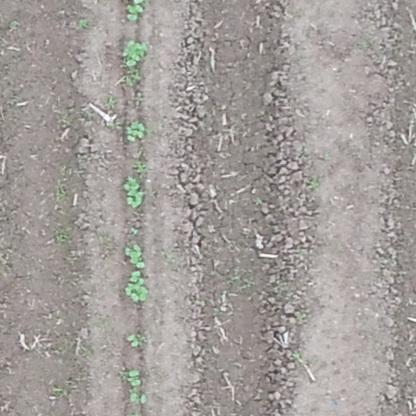vc: (124, 269, 153, 302), (121, 118, 147, 143), (122, 39, 146, 66), (126, 238, 147, 268), (125, 175, 144, 208), (126, 389, 149, 404), (128, 368, 143, 386), (126, 332, 141, 349), (128, 3, 142, 20)
